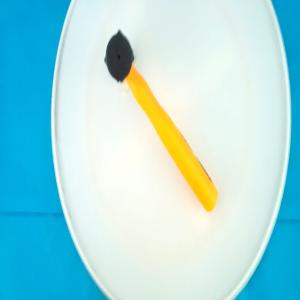martelo: (104, 28, 219, 214)
